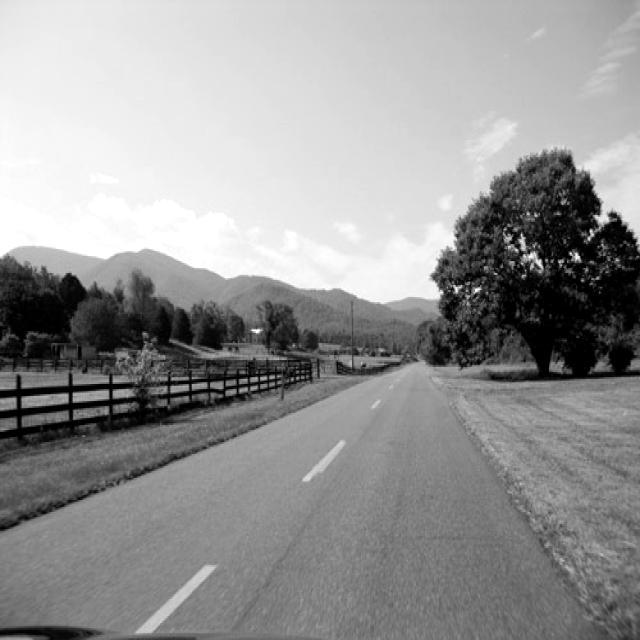cleat: (224, 361, 584, 640)
